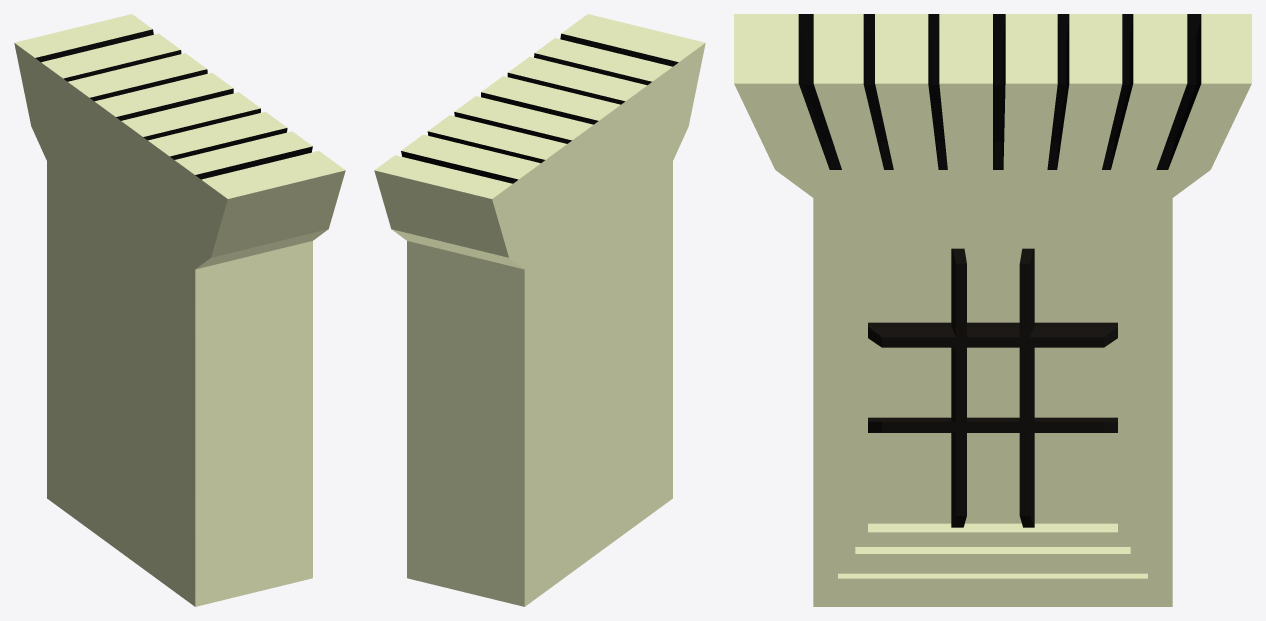
Rendered from Door.fbx.
The picture shows the model from 3 angles, left to right: view 1: azimuth 30°, elevation 25°; view 2: azimuth 150°, elevation 25°; view 3: azimuth 270°, elevation 25°; orthographic projection. The views are drawn at different scales.
Visible parts, largest first — view 1: Cube; view 2: Cube; view 3: Cube.
Part boxes in pixels (box(x1,y1,x2,y2)): Cube: box(14, 14, 345, 606); Cube: box(374, 14, 705, 606); Cube: box(734, 14, 1251, 606).
Size of the model in its own units: 200 by 700 by 628.
